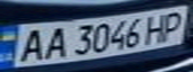0: (90, 20, 112, 53)
3: (69, 21, 97, 56)
4: (109, 17, 130, 51)
6: (124, 16, 151, 48)
A: (12, 26, 51, 63), (39, 24, 69, 61)
H: (139, 11, 172, 44)
P: (157, 8, 193, 42)
